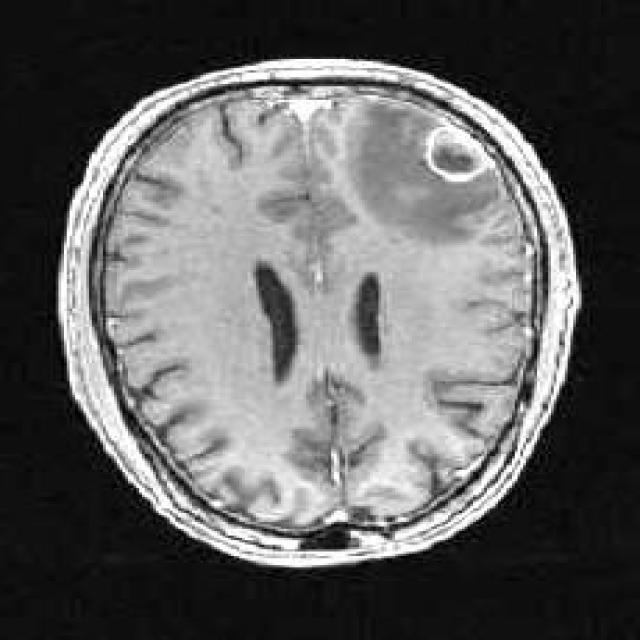notumor: (58, 59, 579, 565)
